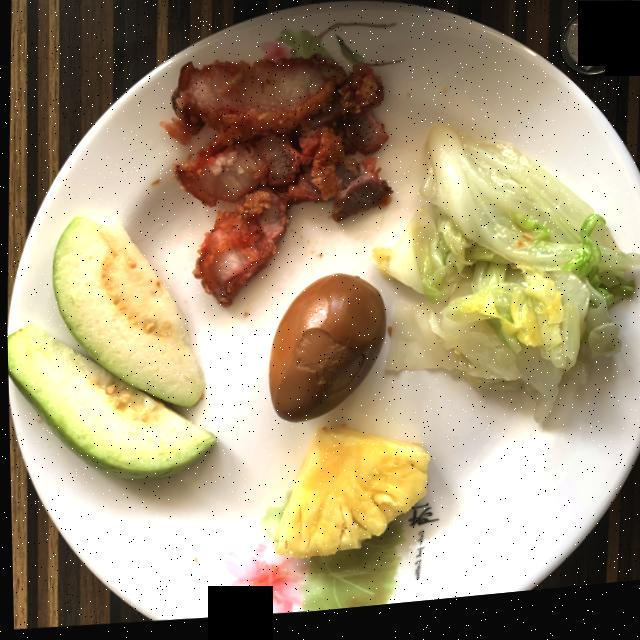cabbage: (370, 133, 640, 432)
coin: (560, 20, 626, 86)
guava -sliced-: (6, 216, 213, 481)
pineapple: (272, 432, 426, 564)
red grilled pork: (162, 61, 390, 310)
soy egg: (267, 281, 384, 427)
